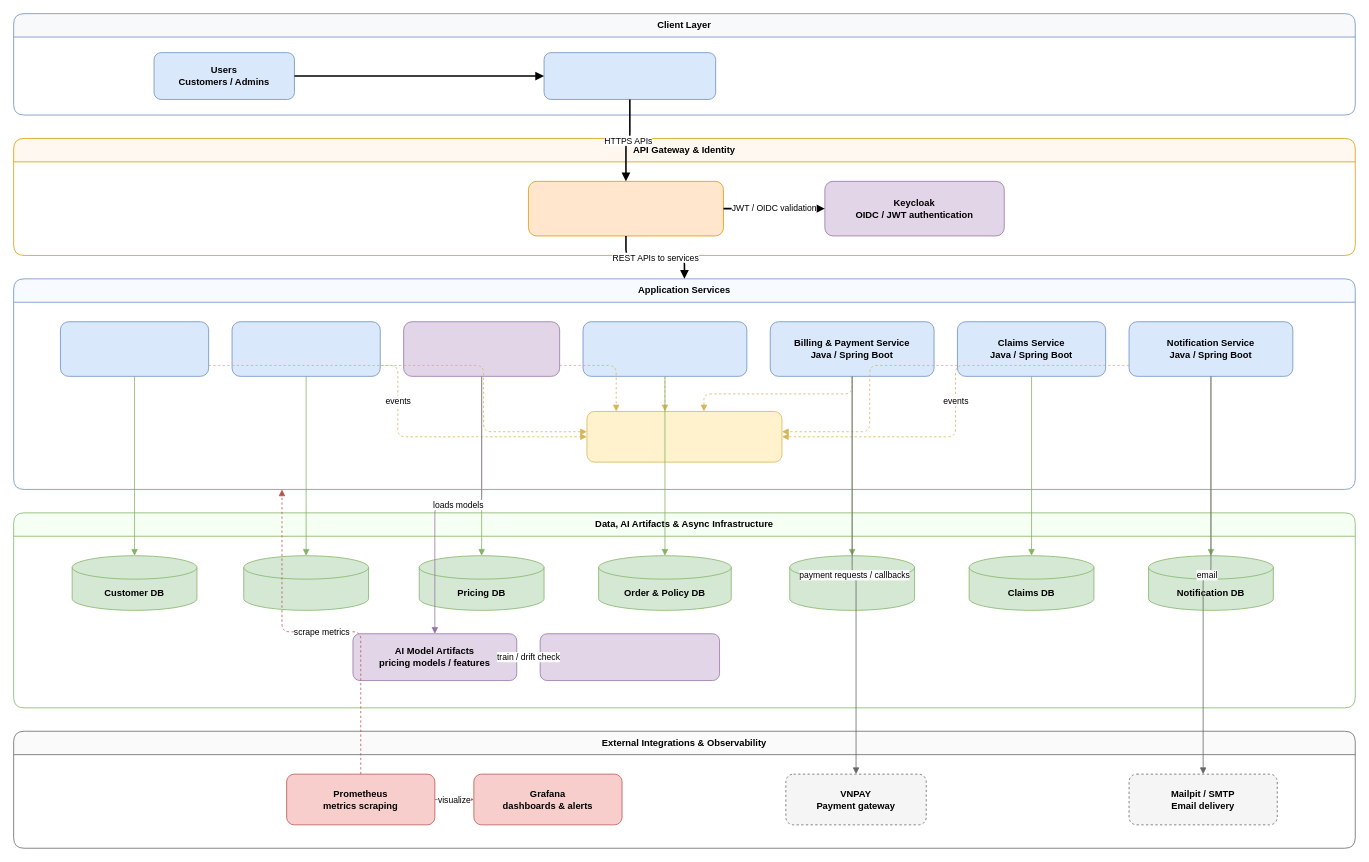
The diagram is 1369 pixels wide and 862 high, and some of its shapes have lost their labels. The shapes that lost their labels are listed below. From the top down, each one's centre as x and y in pixels, then its label:
At (x=629, y=75): "React Web App Portal & dashboards".
At (x=625, y=208): "Kong API Gateway Routing / rate limits / API policy".
At (x=134, y=348): "Customer Service Java / Spring Boot".
At (x=305, y=348): "Product Service Java / Spring Boot".
At (x=481, y=348): "Pricing Service Python / FastAPI + AI".
At (x=664, y=348): "Order & Policy Service Java / Spring Boot".
At (x=684, y=436): "RabbitMQ Async event bus".
At (x=306, y=582): "Product DB".
At (x=852, y=582): "Billing DB".
At (x=629, y=657): "Offline Training & Drift Monitoring Jobs".
